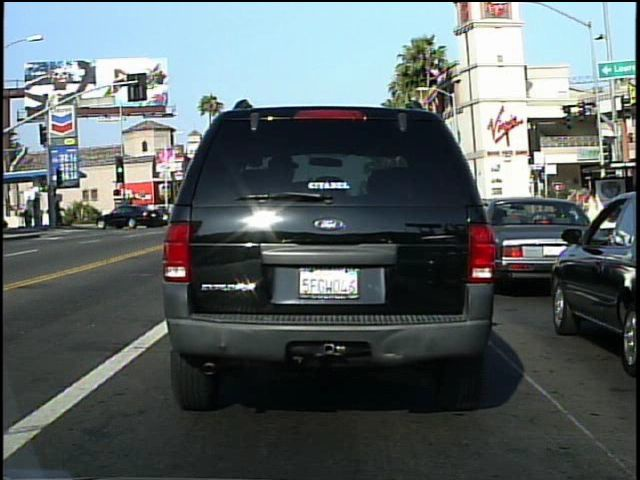person: (583, 188, 604, 244)
